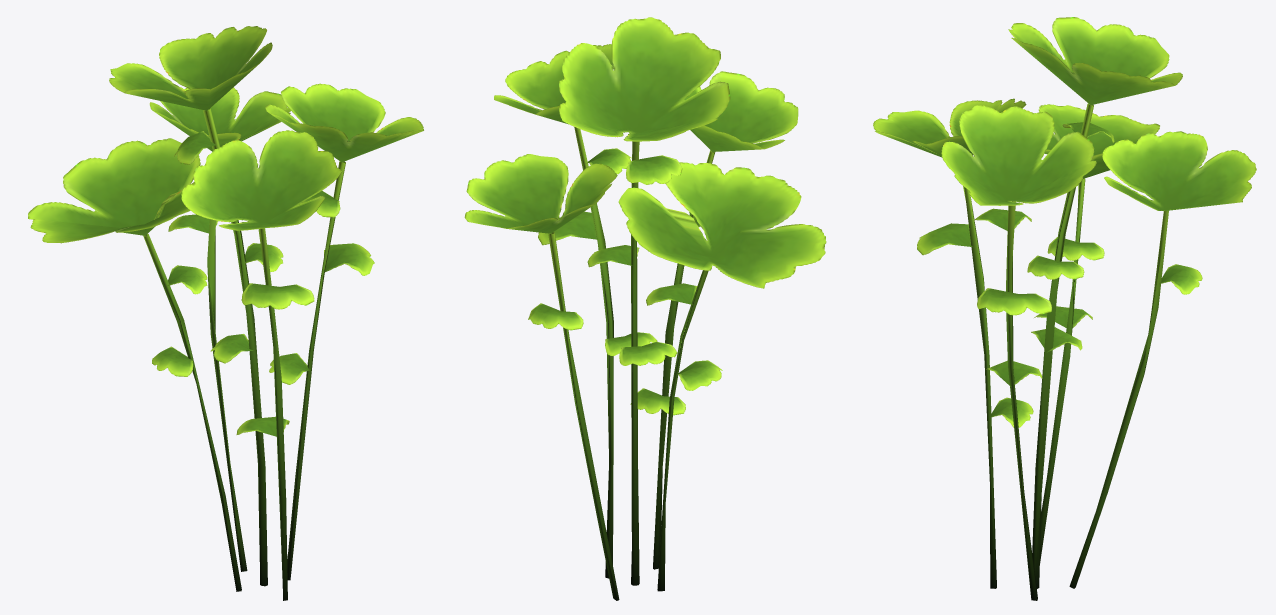
File: Clover_2.gltf
3 renders of one model, left to right at view 1: azimuth 30°, elevation 25°; view 2: azimuth 150°, elevation 25°; view 3: azimuth 270°, elevation 25°, orthographic. The views are drawn at different scales.
Visible parts, largest first — view 1: Clover_2; view 2: Clover_2; view 3: Clover_2.
Part boxes in pixels (x1,y1,x2,y2): Clover_2: [28, 26, 423, 600]; Clover_2: [464, 17, 826, 600]; Clover_2: [873, 17, 1256, 600].
Bounding box in the file's own units: 0.8511 × 1.26 × 0.8366.
Materials: 1 (1 with a texture image).
